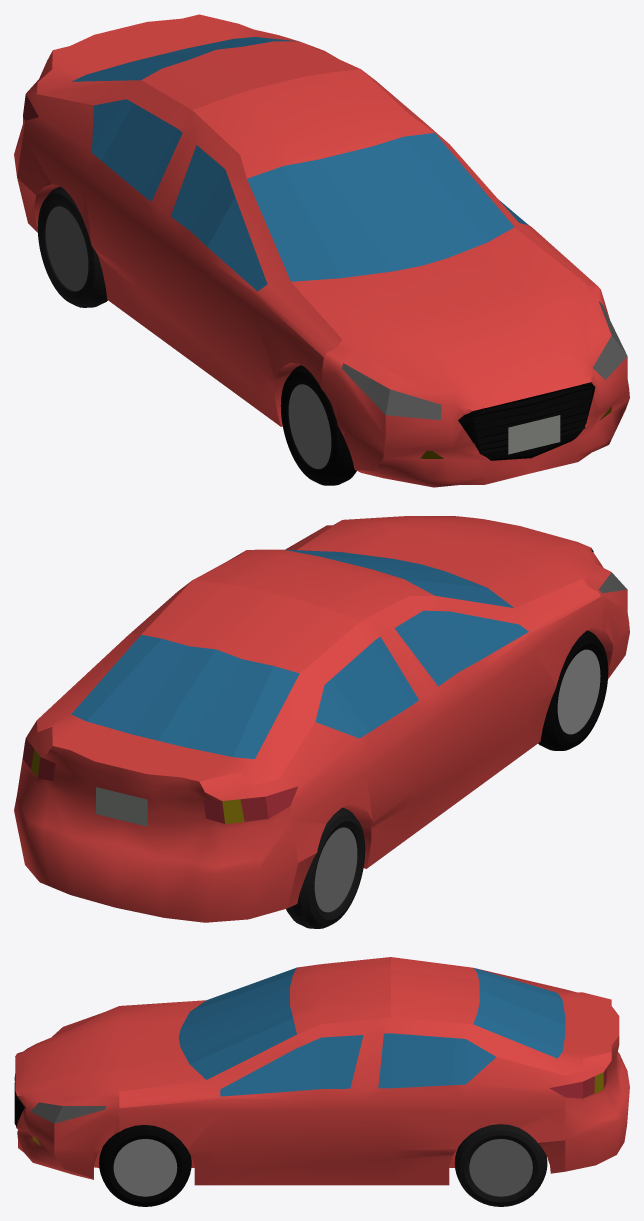
The picture shows the model from 3 angles, top to bottom: view 1: azimuth 30°, elevation 25°; view 2: azimuth 150°, elevation 25°; view 3: azimuth 270°, elevation 25°; orthographic projection. The views are drawn at different scales.
Visible parts, largest first — view 1: Body, Window, Cube.001, TFRT, HeadLight, TRRT, TFRC, TRRC, Plane; view 2: Body, Window, TRRT, TFRC, TRRC, TFRT, BLOFF, Plane.001; view 3: Body, Window, TRLT, TFLT, TRLC, TFLC, HeadLight, BLOFF.
Boxes of the visible parts, x1,y1,x2,y2 form: Body: [14, 14, 629, 487]; Window: [72, 37, 528, 291]; Cube.001: [458, 382, 595, 460]; TFRT: [280, 365, 356, 485]; HeadLight: [341, 301, 627, 420]; TRRT: [37, 186, 107, 307]; TFRC: [288, 384, 331, 469]; TRRC: [45, 206, 88, 291]; Plane: [508, 415, 560, 454]; Body: [14, 516, 629, 922]; Window: [71, 549, 528, 759]; TRRT: [286, 807, 365, 928]; TFRC: [557, 649, 600, 734]; TRRC: [314, 827, 357, 912]; TFRT: [538, 630, 608, 750]; BLOFF: [23, 738, 298, 823]; Plane.001: [96, 787, 147, 826]; Body: [15, 957, 629, 1185]; Window: [178, 967, 565, 1096]; TRLT: [454, 1124, 547, 1206]; TFLT: [99, 1125, 191, 1206]; TRLC: [469, 1139, 532, 1196]; TFLC: [113, 1139, 177, 1196]; HeadLight: [30, 1102, 106, 1123]; BLOFF: [549, 1068, 606, 1098].
Size of the model in its own units: 179 by 150 by 465.
